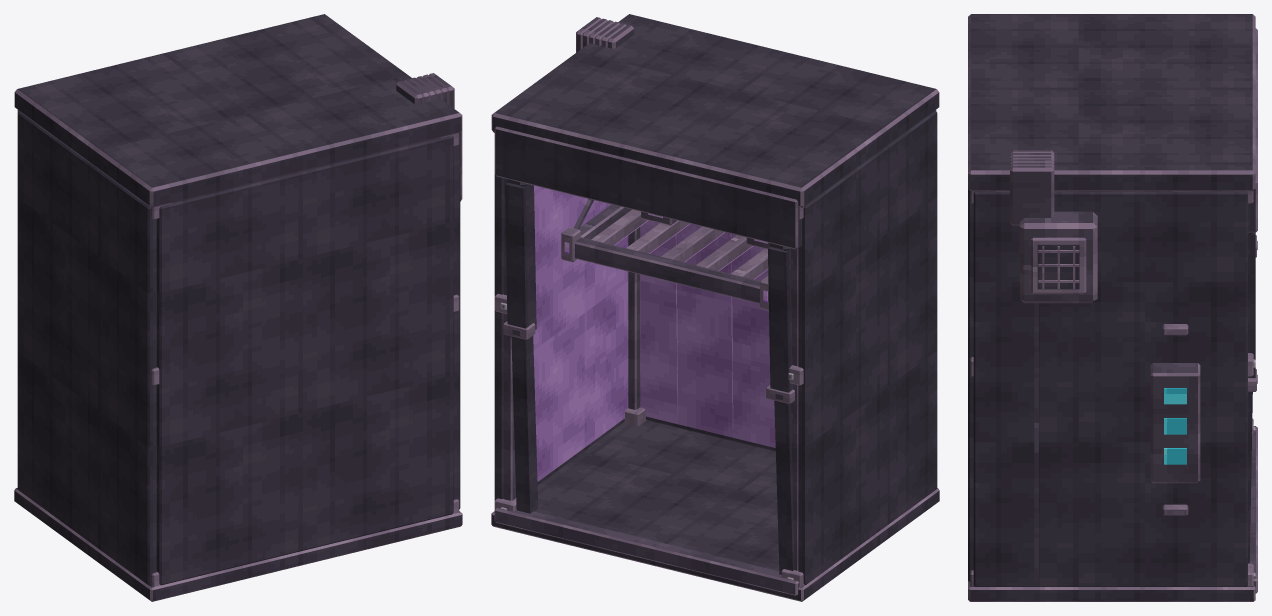
Rendered from tent_4.obj.
3 renders of one model, left to right at view 1: azimuth 30°, elevation 25°; view 2: azimuth 150°, elevation 25°; view 3: azimuth 270°, elevation 25°, orthographic. The views are drawn at different scales.
Visible parts, largest first — view 1: model; view 2: model; view 3: model.
Boxes of the visible parts, box(x1,y1,x2,y2) form: model: box(14, 14, 462, 601); model: box(491, 14, 939, 601); model: box(968, 14, 1257, 601).
Size of the model in its own units: 2.34 by 2.74 by 1.64.
